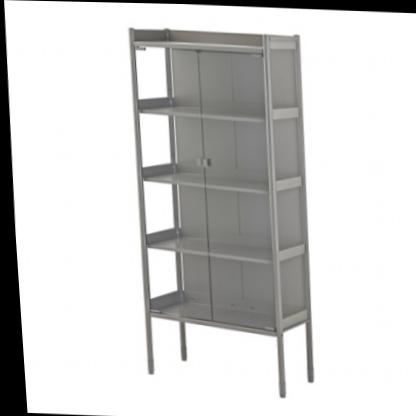Cabinet: (117, 20, 322, 398)
